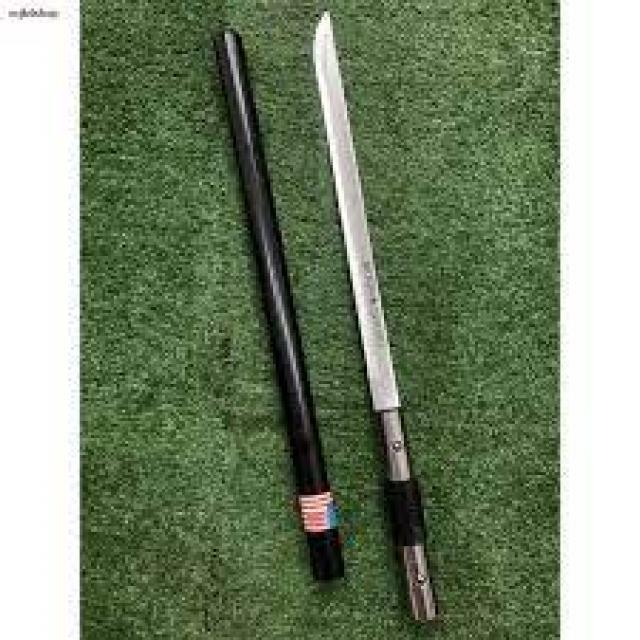long sword: (312, 4, 518, 622), (190, 23, 370, 585)
